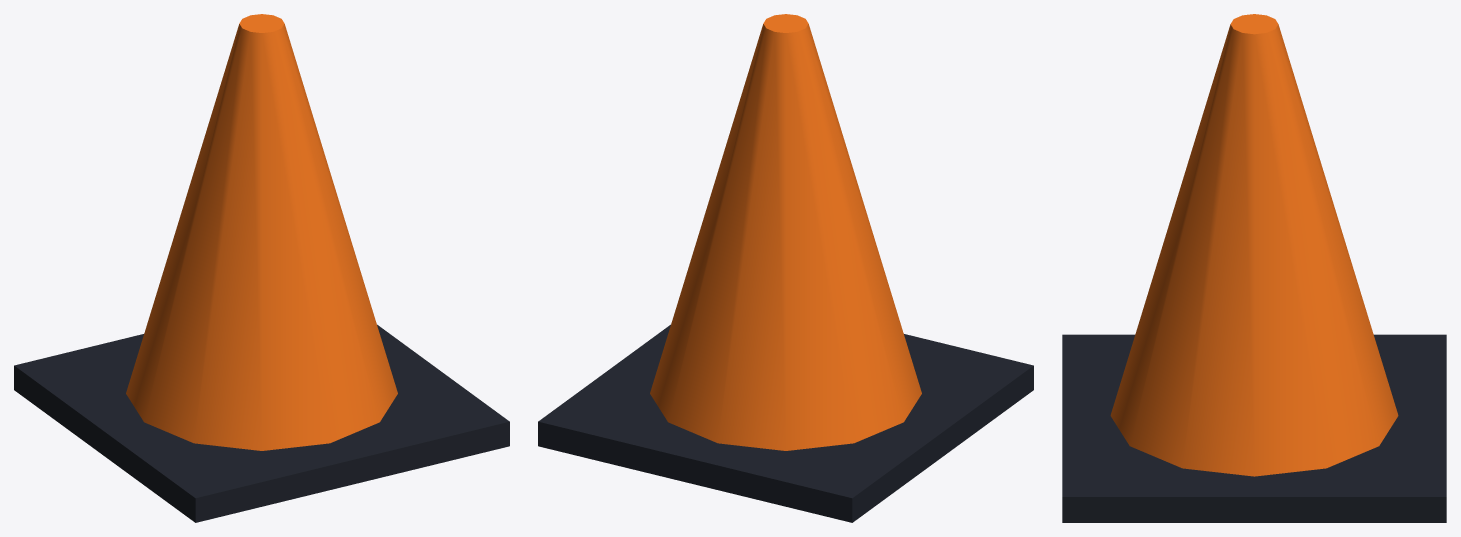
Rendered from traffic_cone.glb.
The picture shows the model from 3 angles, left to right: view 1: azimuth 30°, elevation 25°; view 2: azimuth 150°, elevation 25°; view 3: azimuth 270°, elevation 25°; orthographic projection. The views are drawn at different scales.
Visible parts, largest first — view 1: traffic_cone; view 2: traffic_cone; view 3: traffic_cone.
Boxes of the visible parts, x1=… form: traffic_cone: x1=14, y1=14, x2=509, y2=522; traffic_cone: x1=538, y1=14, x2=1033, y2=522; traffic_cone: x1=1062, y1=14, x2=1446, y2=522.
Bounding box in the file's own units: 0.8 × 0.96 × 0.8.
